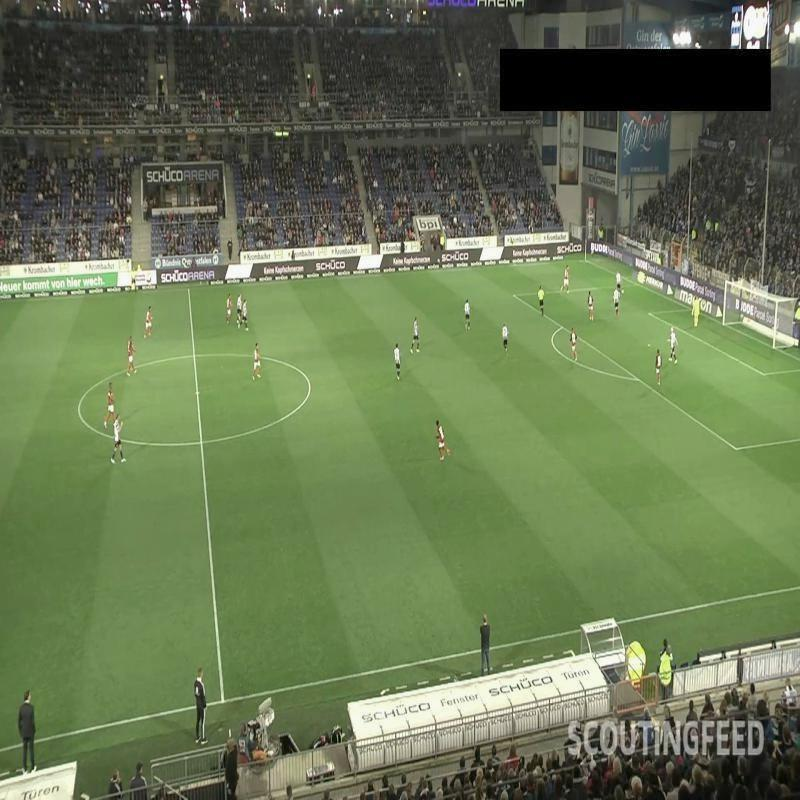1: (578, 254, 593, 268)
10: (556, 320, 570, 334)
11: (630, 372, 644, 386)
12: (730, 442, 744, 456)
13: (182, 280, 196, 294)
14: (187, 348, 201, 362)
15: (194, 434, 208, 448)
16: (213, 692, 231, 710)
2: (630, 278, 644, 292)
3: (684, 302, 698, 316)
7: (642, 306, 656, 320)
8: (756, 366, 770, 380)
9: (507, 287, 522, 301)
c: (73, 400, 87, 415), (303, 375, 315, 390)
